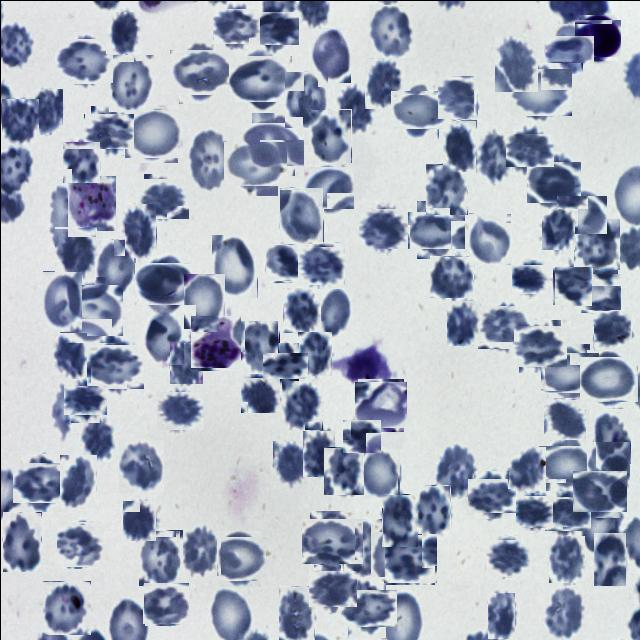leukocyte: (576, 16, 618, 58)
red blood cell: (62, 282, 120, 338), (512, 64, 568, 119), (232, 50, 287, 105), (186, 126, 232, 190), (211, 233, 257, 297), (174, 44, 228, 98), (126, 106, 180, 160), (304, 514, 358, 568), (228, 136, 282, 190), (246, 117, 299, 170), (582, 352, 634, 404), (58, 34, 110, 86), (108, 53, 154, 111), (383, 532, 435, 583), (340, 518, 385, 576), (42, 580, 90, 634), (368, 3, 415, 58), (138, 258, 189, 308), (90, 341, 140, 392), (278, 186, 322, 243), (284, 70, 328, 127), (213, 533, 263, 583), (544, 347, 594, 397), (15, 458, 66, 507), (118, 438, 164, 492), (138, 529, 182, 585), (355, 380, 405, 429), (42, 270, 82, 331), (182, 272, 225, 328), (494, 35, 537, 91), (479, 302, 528, 351), (578, 497, 620, 554), (142, 306, 183, 364), (586, 440, 630, 494), (94, 238, 136, 294), (342, 584, 391, 632), (573, 218, 619, 269), (2, 511, 41, 571), (308, 108, 351, 162), (529, 157, 577, 205), (411, 205, 459, 253), (395, 85, 443, 133), (575, 466, 623, 514), (433, 445, 478, 496), (542, 586, 585, 639), (515, 322, 563, 369), (468, 212, 511, 264), (54, 226, 96, 279), (309, 28, 350, 82), (179, 522, 220, 575), (238, 319, 278, 373), (425, 163, 467, 214), (474, 128, 512, 184), (305, 164, 351, 210), (140, 176, 186, 222), (541, 441, 587, 486), (281, 379, 322, 429), (364, 57, 404, 108), (360, 205, 405, 250), (57, 522, 102, 567), (323, 446, 364, 494), (59, 454, 96, 507), (381, 493, 418, 546), (278, 585, 314, 639), (143, 580, 187, 624), (558, 192, 602, 236), (362, 447, 400, 497), (86, 109, 130, 152), (593, 412, 630, 463), (158, 388, 201, 431), (299, 243, 342, 286), (429, 255, 473, 297), (78, 414, 116, 462), (593, 531, 626, 585), (442, 119, 476, 171), (310, 567, 352, 609), (508, 128, 550, 170), (544, 492, 586, 534), (542, 398, 584, 440), (252, 6, 294, 48), (124, 202, 156, 257), (548, 536, 584, 584), (470, 474, 511, 516), (486, 536, 527, 578), (282, 287, 320, 332), (1, 98, 38, 144), (416, 484, 450, 533), (215, 6, 256, 46), (272, 440, 306, 488), (592, 310, 632, 350), (578, 270, 618, 310), (436, 76, 476, 116), (62, 140, 100, 182), (507, 446, 545, 488), (446, 300, 480, 346), (52, 332, 86, 378), (548, 29, 588, 68), (105, 11, 142, 53), (265, 243, 304, 282), (29, 88, 62, 134), (297, 331, 331, 375), (338, 85, 371, 130), (320, 288, 352, 334), (302, 430, 334, 476), (553, 266, 591, 304), (240, 376, 280, 412), (169, 341, 203, 383), (122, 499, 156, 540), (541, 208, 574, 249), (487, 591, 515, 638), (66, 382, 102, 418), (343, 417, 379, 453), (267, 347, 303, 383), (516, 494, 552, 528), (512, 262, 546, 296)
schizont: (188, 316, 242, 369)
trophozoite: (67, 175, 115, 230)
